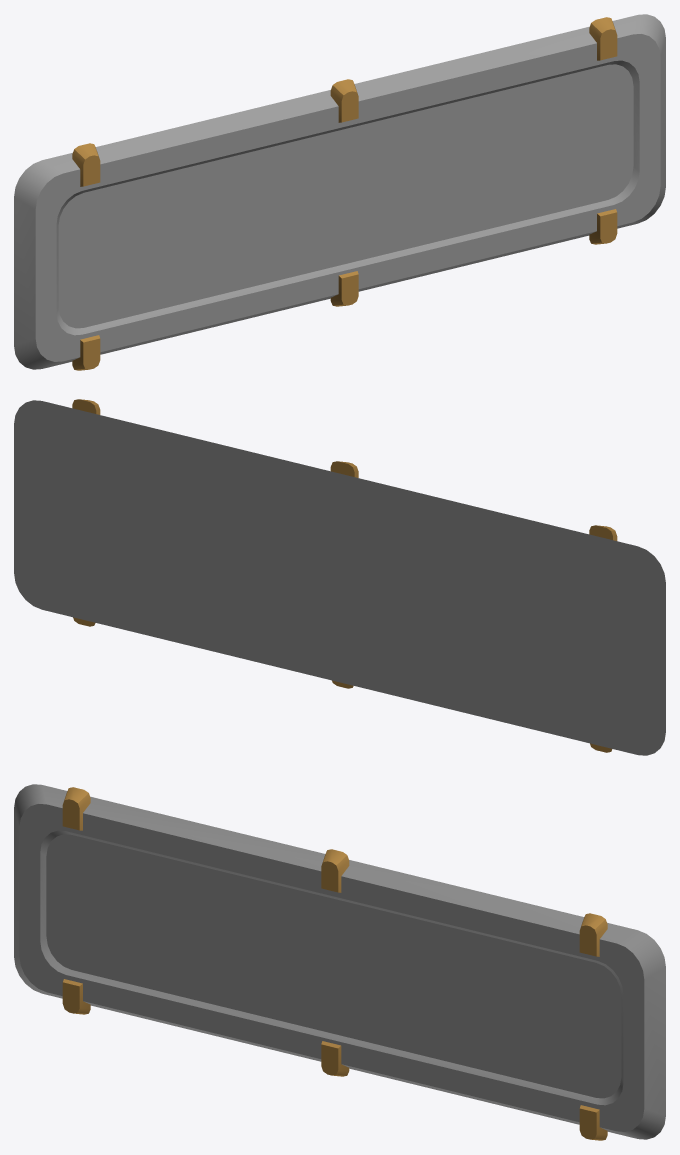
File: details_plate_long.glb
3 renders of one model, top to bottom at view 1: azimuth 30°, elevation 25°; view 2: azimuth 150°, elevation 25°; view 3: azimuth 330°, elevation 25°, orthographic.
Parts seen in each view (by area): view 1: Details_Plate_Long_Cube.035; view 2: Details_Plate_Long_Cube.035; view 3: Details_Plate_Long_Cube.035.
Boxes of the visible parts, x1=… form: Details_Plate_Long_Cube.035: x1=14, y1=14, x2=665, y2=370; Details_Plate_Long_Cube.035: x1=14, y1=399, x2=665, y2=755; Details_Plate_Long_Cube.035: x1=14, y1=784, x2=665, y2=1140.
Bounding box in the file's own units: 1.05 × 0.3482 × 0.0287.
